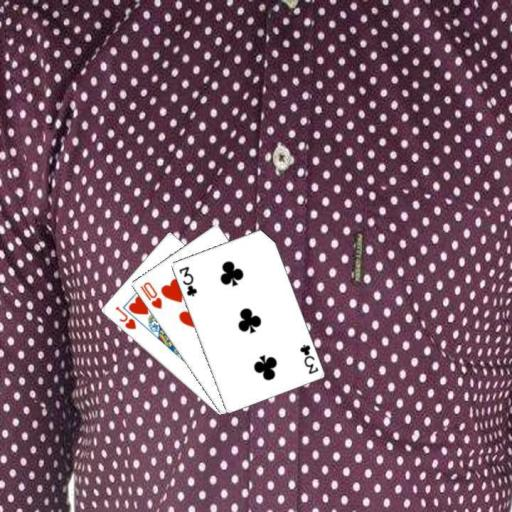card-corner: (136, 279, 164, 310), (297, 342, 320, 376), (176, 263, 198, 298), (112, 303, 137, 331)
